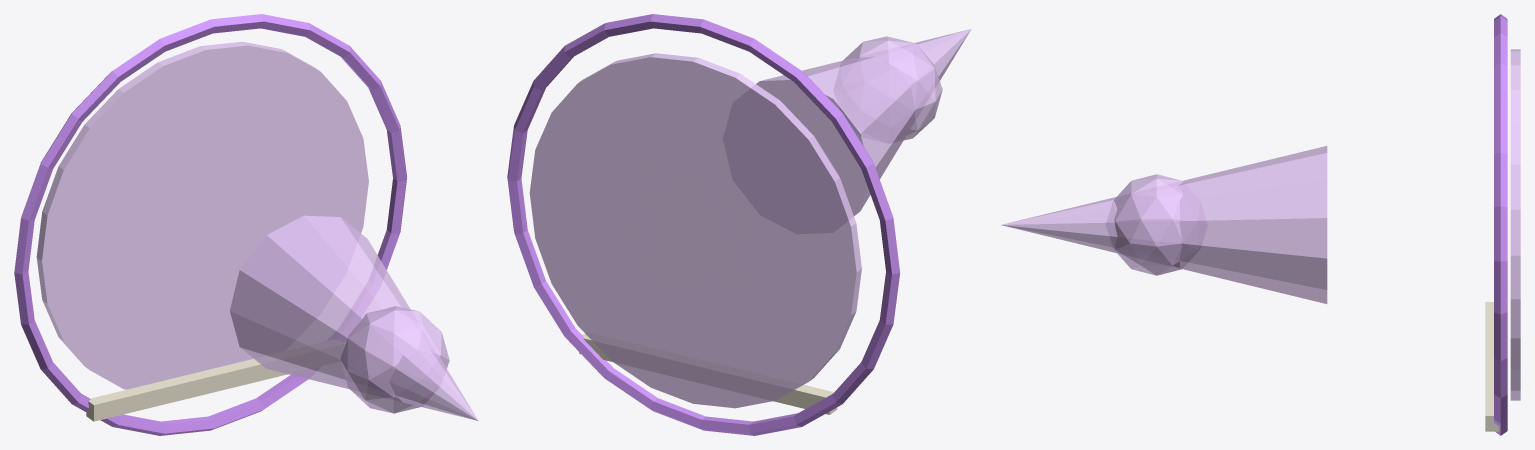
File: 01_ability_vfx_module.glb
The picture shows the model from 3 angles, left to right: view 1: azimuth 30°, elevation 25°; view 2: azimuth 150°, elevation 25°; view 3: azimuth 270°, elevation 25°; orthographic projection. The views are drawn at different scales.
Visible parts, largest first — view 1: ability_ground_disc, ability_energy_cone, ability_timing_ring, ability_core, directional_flow_mark; view 2: ability_ground_disc, ability_timing_ring, ability_energy_cone, directional_flow_mark, ability_core; view 3: ability_energy_cone, ability_core, ability_timing_ring, ability_ground_disc, directional_flow_mark.
Part boxes in pixels (x1,y1,x2,y2): ability_ground_disc: [36, 41, 368, 389]; ability_energy_cone: [230, 215, 478, 420]; ability_timing_ring: [14, 14, 406, 435]; ability_core: [340, 306, 449, 413]; directional_flow_mark: [86, 340, 343, 421]; ability_ground_disc: [529, 53, 861, 408]; ability_timing_ring: [507, 14, 899, 435]; ability_energy_cone: [756, 29, 971, 215]; directional_flow_mark: [579, 332, 837, 414]; ability_core: [843, 36, 942, 140]; ability_energy_cone: [1001, 146, 1327, 303]; ability_core: [1114, 174, 1183, 275]; ability_timing_ring: [1494, 14, 1507, 435]; ability_ground_disc: [1510, 49, 1520, 400]; directional_flow_mark: [1485, 302, 1499, 431].
Size of the model in its own units: 1.49 by 1.49 by 1.83.
